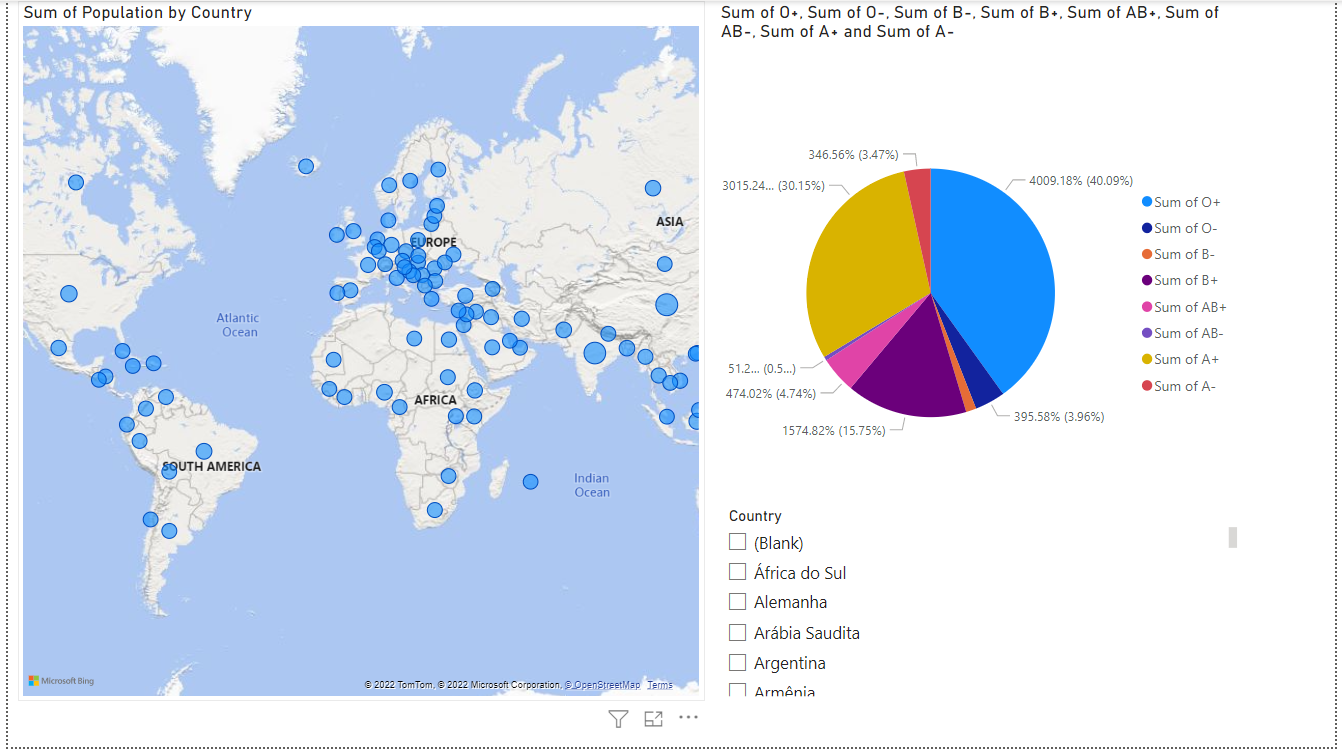

This screenshot's page, from the dashboard's own definition file:
{"tool":"powerbi","page":{"name":"Page 2","canvas":[1280,720],"ordinal":2},"visuals":[{"type":"map","fields":{"Category":["bloodtypes.Country"],"Size":["Sum(bloodtypes.Population)"]},"box":[9.6,0,662,675.7],"z":0},{"type":"pieChart","fields":{"Y":["Sum(bloodtypes.O+)","Sum(bloodtypes.O-)","Sum(bloodtypes.B-)","Sum(bloodtypes.B+)","Sum(bloodtypes.AB+)","Sum(bloodtypes.AB-)","Sum(bloodtypes.A+)","Sum(bloodtypes.A-)"]},"box":[682.6,0,508.2,524.6],"z":1000},{"type":"slicer","fields":{"Values":["bloodtypes.Country"]},"box":[682.6,483.4,508.2,192.3],"z":2000}]}

Visuals, with their boxes in screenshot pixels (x1, y1, x2, y2), scaled from the page's 1280x720 canvas onto the 1342x754 screenshot:
map - bloodtypes.Country x Sum(bloodtypes.Population): {"left": 10, "top": 0, "right": 704, "bottom": 708}
pieChart - Sum(bloodtypes.O+) x Sum(bloodtypes.O-): {"left": 716, "top": 0, "right": 1248, "bottom": 549}
slicer - bloodtypes.Country: {"left": 716, "top": 506, "right": 1248, "bottom": 708}
